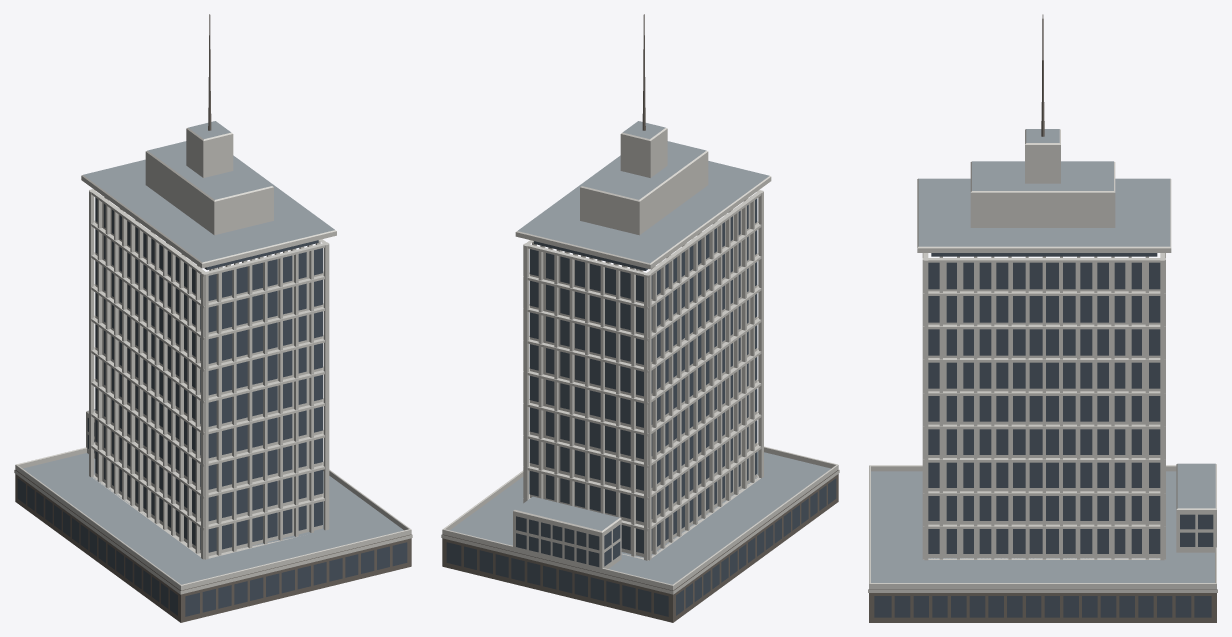
Rendered from ric-city-hall.glb.
The picture shows the model from 3 angles, left to right: view 1: azimuth 30°, elevation 25°; view 2: azimuth 150°, elevation 25°; view 3: azimuth 270°, elevation 25°; orthographic projection. The views are drawn at different scales.
Parts seen in each view (by area): view 1: Richmond City Hall; view 2: Richmond City Hall; view 3: Richmond City Hall.
Part boxes in pixels (box(x1,y1,x2,y2)): Richmond City Hall: box(14, 14, 412, 622); Richmond City Hall: box(441, 14, 839, 622); Richmond City Hall: box(868, 14, 1217, 622).
Bounding box in the file's own units: 62.4 × 134 × 77.4.
